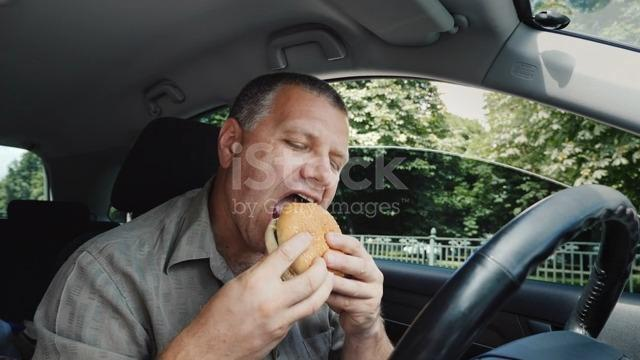Eating: (199, 51, 397, 319)
